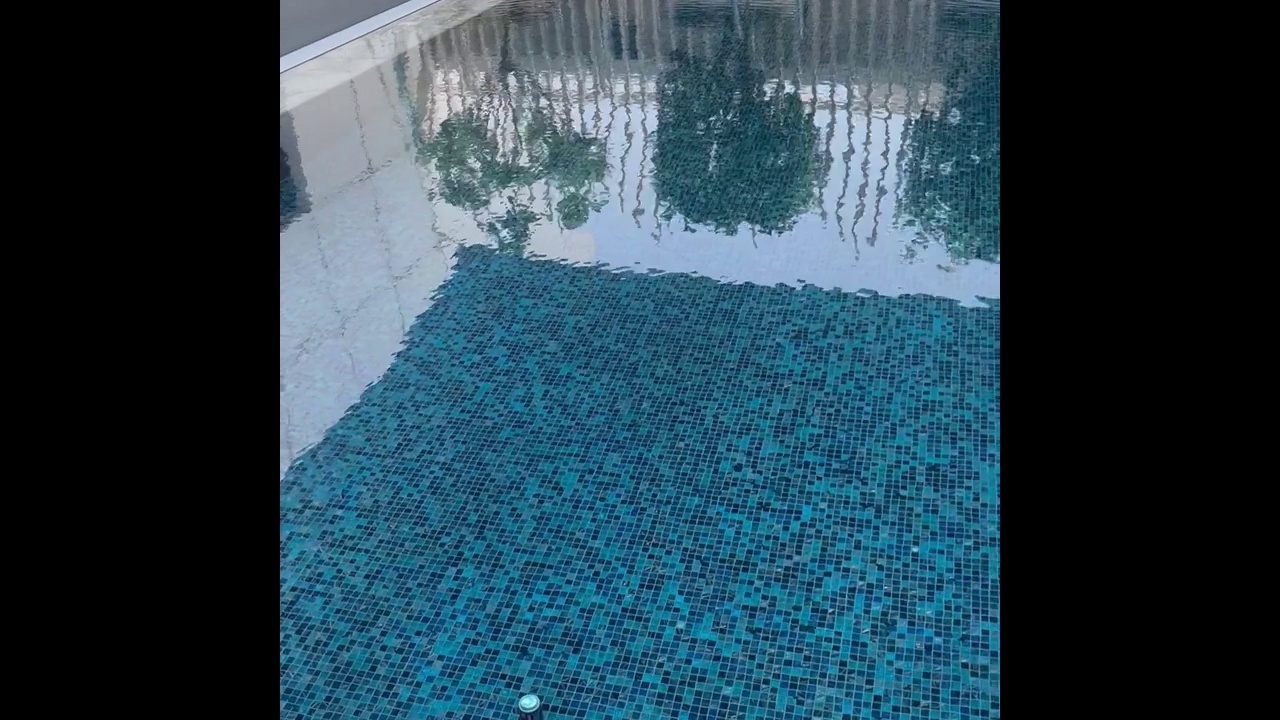debris: (512, 691, 546, 720)
